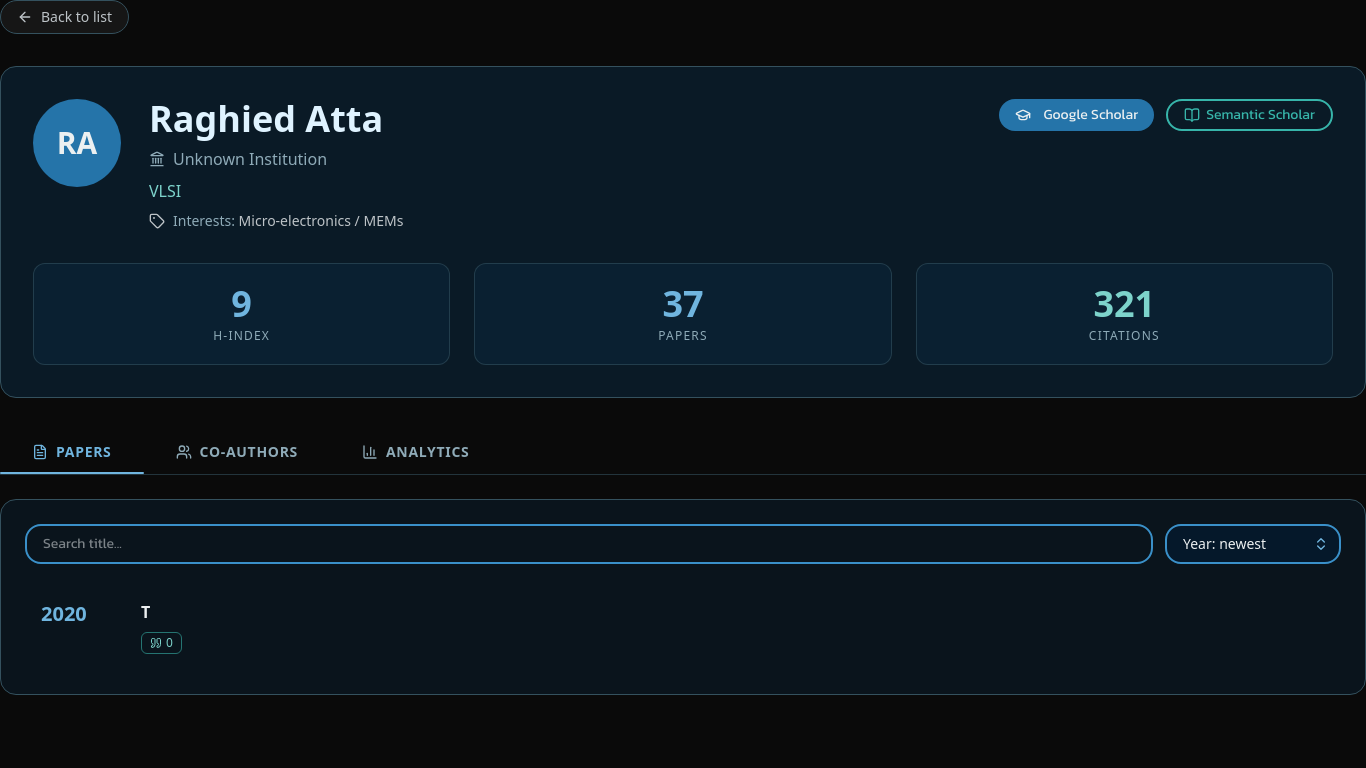
Scenario: Analytics tab › shows an empty state when no paper has fields of study
Expected: the text "321" is shown, 1093,284 -> 1155,324
Click the tab "Analytics": click(416, 452) 330,430 -> 501,474
(page scrolled)
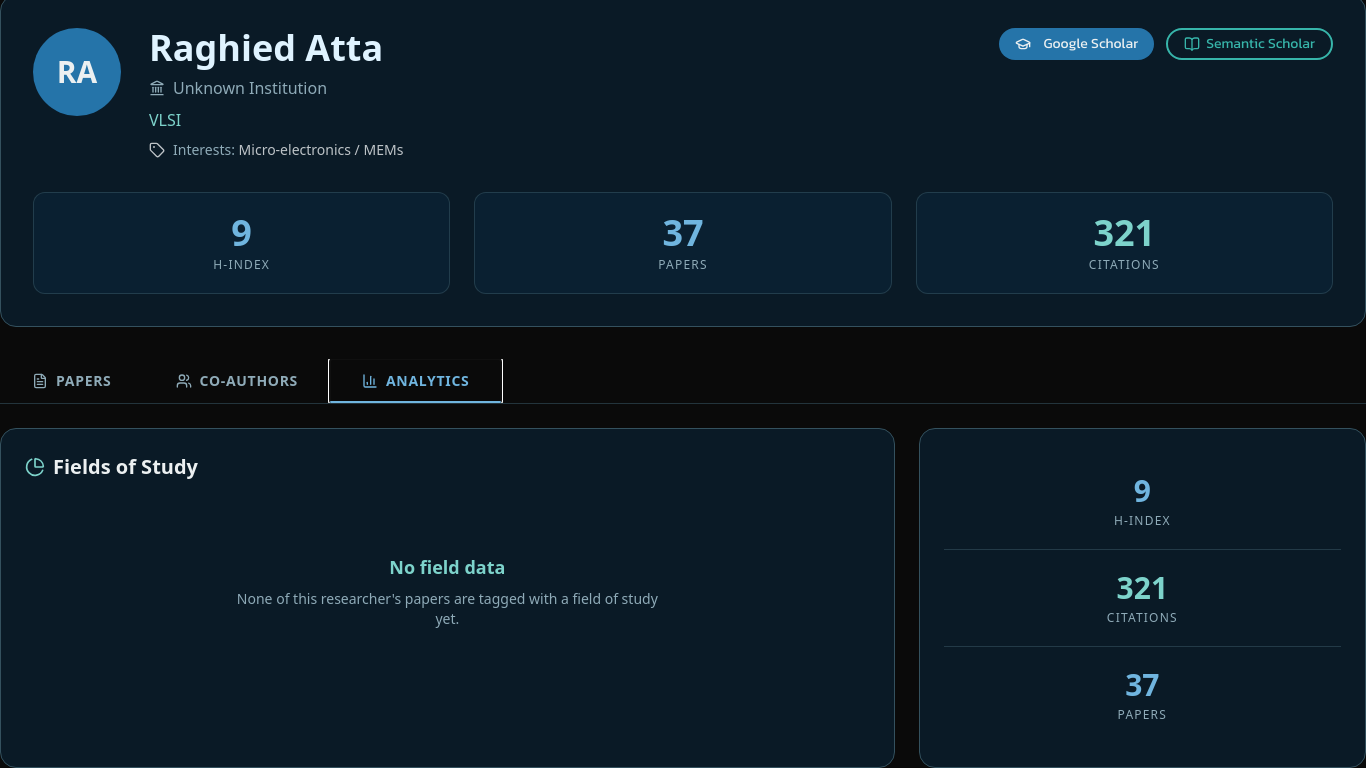
Result: the text "No field data" is shown at 389,553 -> 505,581
Result: the element named "Metrics summary" is shown at 919,428 -> 1365,767
